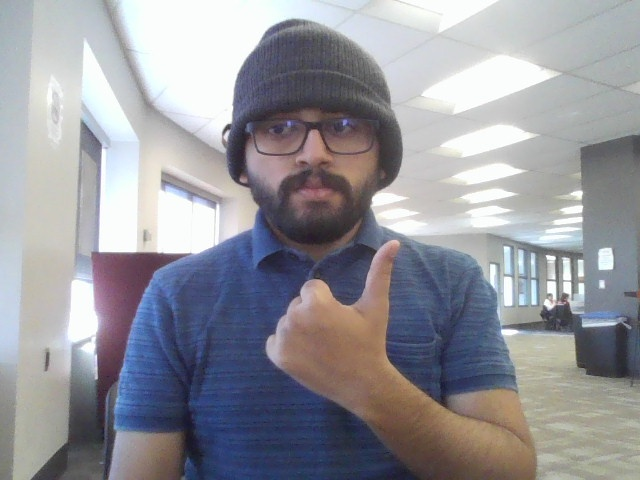start: (265, 231, 407, 415)
